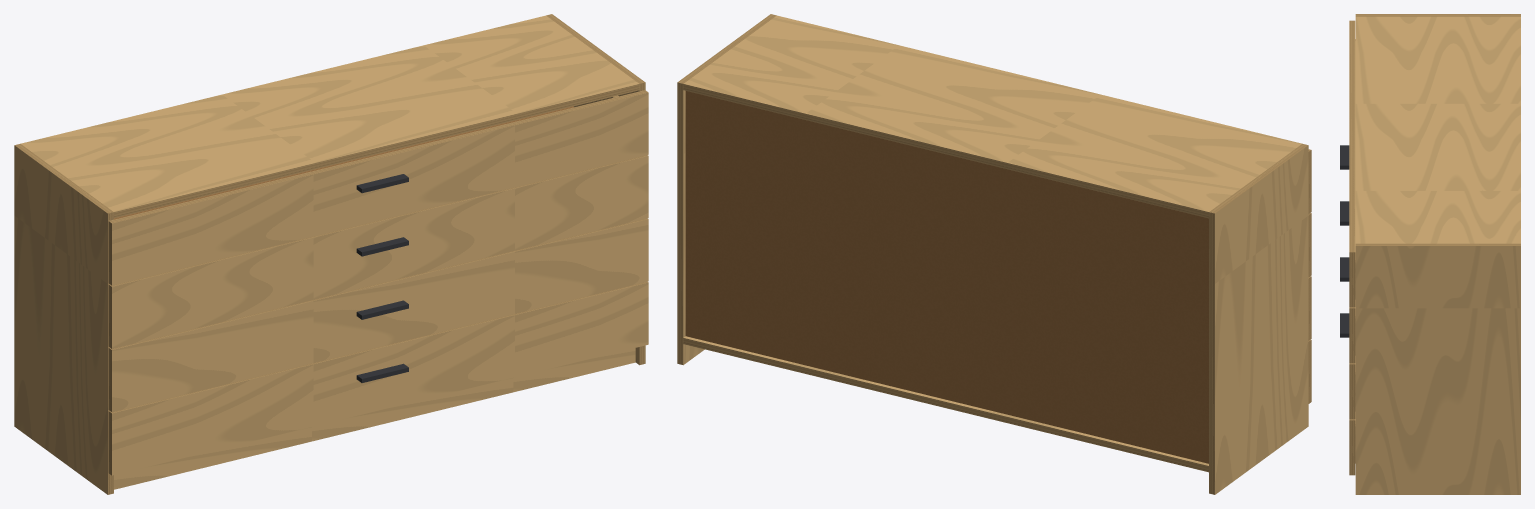
Rendered from HIN-DRS-wide.glb.
3 renders of one model, left to right at view 1: azimuth 30°, elevation 25°; view 2: azimuth 150°, elevation 25°; view 3: azimuth 270°, elevation 25°, orthographic. The views are drawn at different scales.
Visible parts, largest first — view 1: top:sheet:eyJtIjoicGx5Iiwic2lkZSI6ImZhY2UiLCJzZWVkIjo2LCJ2ZW, d3-front:sheet:eyJtIjoicGx5Iiwic2lkZSI6ImZhY2UiLCJzZWVkIjowL, d1-front:sheet:eyJtIjoicGx5Iiwic2lkZSI6ImZhY2UiLCJzZWVkIjoyL, d4-front:sheet:eyJtIjoicGx5Iiwic2lkZSI6ImZhY2UiLCJzZWVkIjoyL, d2-front:sheet:eyJtIjoicGx5Iiwic2lkZSI6ImZhY2UiLCJzZWVkIjo2L, side-l:sheet:eyJtIjoicGx5Iiwic2lkZSI6ImZhY2UiLCJzZWVkIjoxLCJ, plinth:sheet:eyJtIjoicGx5Iiwic2lkZSI6ImZhY2UiLCJzZWVkIjozLCJ, top:sheet:eyJtIjoicGx5Iiwic2lkZSI6ImVkZ2UtbG9uZyIsInNlZWQiOj, d4-front:sheet:eyJtIjoicGx5Iiwic2lkZSI6ImVkZ2UtbG9uZyIsInNlZ, pull, d2-front:sheet:eyJtIjoicGx5Iiwic2lkZSI6ImVkZ2UtbG9uZyIsInNlZ, d3-front:sheet:eyJtIjoicGx5Iiwic2lkZSI6ImVkZ2UtbG9uZyIsInNlZ (+2 smaller); view 2: back:sheet:eyJtIjoibWRmIiwic2lkZSI6ImZhY2UiLCJzZWVkIjo0LCJ0a, top:sheet:eyJtIjoicGx5Iiwic2lkZSI6ImZhY2UiLCJzZWVkIjo2LCJ2ZW, side-l:sheet:eyJtIjoicGx5Iiwic2lkZSI6ImZhY2UiLCJzZWVkIjoxLCJ, top:sheet:eyJtIjoicGx5Iiwic2lkZSI6ImVkZ2UtbG9uZyIsInNlZWQiOj, bottom:sheet:eyJtIjoicGx5Iiwic2lkZSI6ImVkZ2UtbG9uZyIsInNlZWQ, side-r:sheet:eyJtIjoicGx5Iiwic2lkZSI6ImVkZ2UtbG9uZyIsInNlZWQ, side-l:sheet:eyJtIjoicGx5Iiwic2lkZSI6ImVkZ2UtbG9uZyIsInNlZWQ, bottom:sheet:eyJtIjoicGx5Iiwic2lkZSI6ImZhY2UiLCJzZWVkIjowLCJ, side-r:sheet:eyJtIjoicGx5Iiwic2lkZSI6ImZhY2UiLCJzZWVkIjozLCJ; view 3: side-r:sheet:eyJtIjoicGx5Iiwic2lkZSI6ImZhY2UiLCJzZWVkIjozLCJ, top:sheet:eyJtIjoicGx5Iiwic2lkZSI6ImZhY2UiLCJzZWVkIjo2LCJ2ZW, d4-front:sheet:eyJtIjoicGx5Iiwic2lkZSI6ImVkZ2UtbG9uZyIsInNlZ, pull, side-l:sheet:eyJtIjoicGx5Iiwic2lkZSI6ImVkZ2UtZW5kIiwic2VlZCI, side-r:sheet:eyJtIjoicGx5Iiwic2lkZSI6ImVkZ2UtZW5kIiwic2VlZCI, d1-front:sheet:eyJtIjoicGx5Iiwic2lkZSI6ImVkZ2UtZW5kIiwic2VlZ, d2-front:sheet:eyJtIjoicGx5Iiwic2lkZSI6ImVkZ2UtZW5kIiwic2VlZ, d3-front:sheet:eyJtIjoicGx5Iiwic2lkZSI6ImVkZ2UtZW5kIiwic2VlZ, d4-front:sheet:eyJtIjoicGx5Iiwic2lkZSI6ImVkZ2UtZW5kIiwic2VlZ, d4-box-front:sheet:eyJtIjoicGx5Iiwic2lkZSI6ImVkZ2UtbG9uZyIsI.
Part boxes in pixels (x1,y1,x2,y2): top:sheet:eyJtIjoicGx5Iiwic2lkZSI6ImZhY2UiLCJzZWVkIjo2LCJ2ZW: [21, 15, 638, 211]; d3-front:sheet:eyJtIjoicGx5Iiwic2lkZSI6ImZhY2UiLCJzZWVkIjowL: [112, 156, 648, 348]; d1-front:sheet:eyJtIjoicGx5Iiwic2lkZSI6ImZhY2UiLCJzZWVkIjoyL: [112, 282, 648, 475]; d4-front:sheet:eyJtIjoicGx5Iiwic2lkZSI6ImZhY2UiLCJzZWVkIjoyL: [112, 92, 648, 285]; d2-front:sheet:eyJtIjoicGx5Iiwic2lkZSI6ImZhY2UiLCJzZWVkIjo2L: [112, 219, 648, 412]; side-l:sheet:eyJtIjoicGx5Iiwic2lkZSI6ImZhY2UiLCJzZWVkIjoxLCJ: [14, 145, 107, 494]; plinth:sheet:eyJtIjoicGx5Iiwic2lkZSI6ImZhY2UiLCJzZWVkIjozLCJ: [114, 348, 635, 489]; top:sheet:eyJtIjoicGx5Iiwic2lkZSI6ImVkZ2UtbG9uZyIsInNlZWQiOj: [114, 84, 639, 218]; d4-front:sheet:eyJtIjoicGx5Iiwic2lkZSI6ImVkZ2UtbG9uZyIsInNlZ: [109, 90, 648, 223]; pull: [356, 174, 408, 382]; d2-front:sheet:eyJtIjoicGx5Iiwic2lkZSI6ImVkZ2UtbG9uZyIsInNlZ: [109, 218, 648, 349]; d3-front:sheet:eyJtIjoicGx5Iiwic2lkZSI6ImVkZ2UtbG9uZyIsInNlZ: [109, 155, 648, 286]; back:sheet:eyJtIjoibWRmIiwic2lkZSI6ImZhY2UiLCJzZWVkIjo0LCJ0a: [685, 91, 1208, 463]; top:sheet:eyJtIjoicGx5Iiwic2lkZSI6ImZhY2UiLCJzZWVkIjo2LCJ2ZW: [684, 15, 1301, 211]; side-l:sheet:eyJtIjoicGx5Iiwic2lkZSI6ImZhY2UiLCJzZWVkIjoxLCJ: [1215, 145, 1308, 494]; top:sheet:eyJtIjoicGx5Iiwic2lkZSI6ImVkZ2UtbG9uZyIsInNlZWQiOj: [683, 84, 1208, 218]; bottom:sheet:eyJtIjoicGx5Iiwic2lkZSI6ImVkZ2UtbG9uZyIsInNlZWQ: [683, 338, 1208, 472]; side-r:sheet:eyJtIjoicGx5Iiwic2lkZSI6ImVkZ2UtbG9uZyIsInNlZWQ: [677, 82, 683, 364]; side-l:sheet:eyJtIjoicGx5Iiwic2lkZSI6ImVkZ2UtbG9uZyIsInNlZWQ: [1209, 212, 1214, 494]; bottom:sheet:eyJtIjoicGx5Iiwic2lkZSI6ImZhY2UiLCJzZWVkIjowLCJ: [683, 336, 1208, 465]; side-r:sheet:eyJtIjoicGx5Iiwic2lkZSI6ImZhY2UiLCJzZWVkIjozLCJ: [683, 90, 704, 364]; side-r:sheet:eyJtIjoicGx5Iiwic2lkZSI6ImZhY2UiLCJzZWVkIjozLCJ: [1355, 246, 1520, 494]; top:sheet:eyJtIjoicGx5Iiwic2lkZSI6ImZhY2UiLCJzZWVkIjo2LCJ2ZW: [1355, 16, 1520, 243]; d4-front:sheet:eyJtIjoicGx5Iiwic2lkZSI6ImVkZ2UtbG9uZyIsInNlZ: [1349, 20, 1355, 252]; pull: [1340, 145, 1349, 337]; side-l:sheet:eyJtIjoicGx5Iiwic2lkZSI6ImVkZ2UtZW5kIiwic2VlZCI: [1355, 14, 1520, 16]; side-r:sheet:eyJtIjoicGx5Iiwic2lkZSI6ImVkZ2UtZW5kIiwic2VlZCI: [1355, 243, 1520, 245]; d1-front:sheet:eyJtIjoicGx5Iiwic2lkZSI6ImVkZ2UtZW5kIiwic2VlZ: [1349, 420, 1355, 475]; d2-front:sheet:eyJtIjoicGx5Iiwic2lkZSI6ImVkZ2UtZW5kIiwic2VlZ: [1349, 364, 1355, 419]; d3-front:sheet:eyJtIjoicGx5Iiwic2lkZSI6ImVkZ2UtZW5kIiwic2VlZ: [1349, 308, 1355, 363]; d4-front:sheet:eyJtIjoicGx5Iiwic2lkZSI6ImVkZ2UtZW5kIiwic2VlZ: [1349, 252, 1355, 307]; d4-box-front:sheet:eyJtIjoicGx5Iiwic2lkZSI6ImVkZ2UtbG9uZyIsI: [1355, 41, 1355, 259].
Bounding box in the file's own units: 1.6 × 0.8 × 0.527.
Materials: 91 (90 with a texture image).
